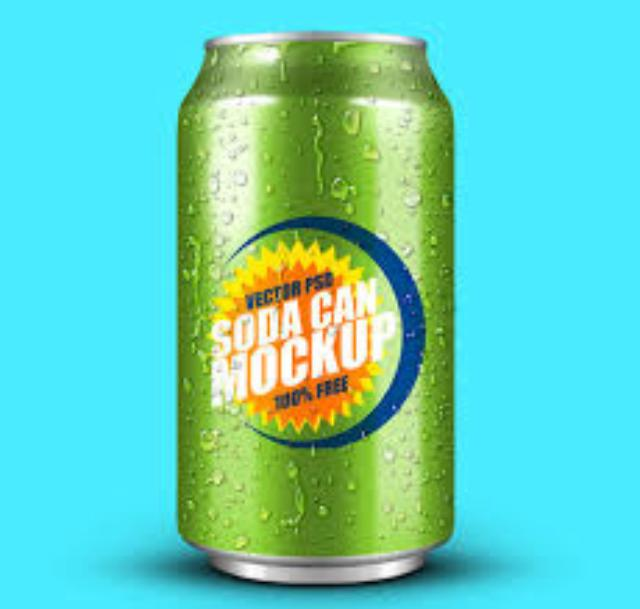metal: (175, 31, 448, 579)
